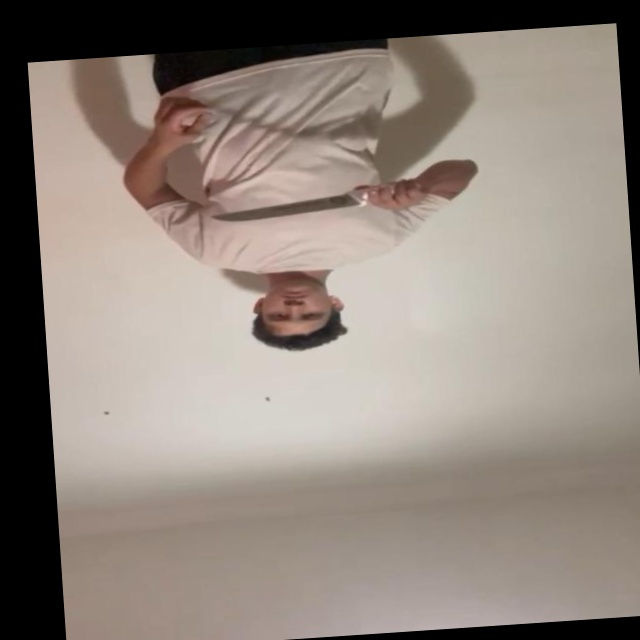Sharp-Object: (207, 192, 358, 226)
